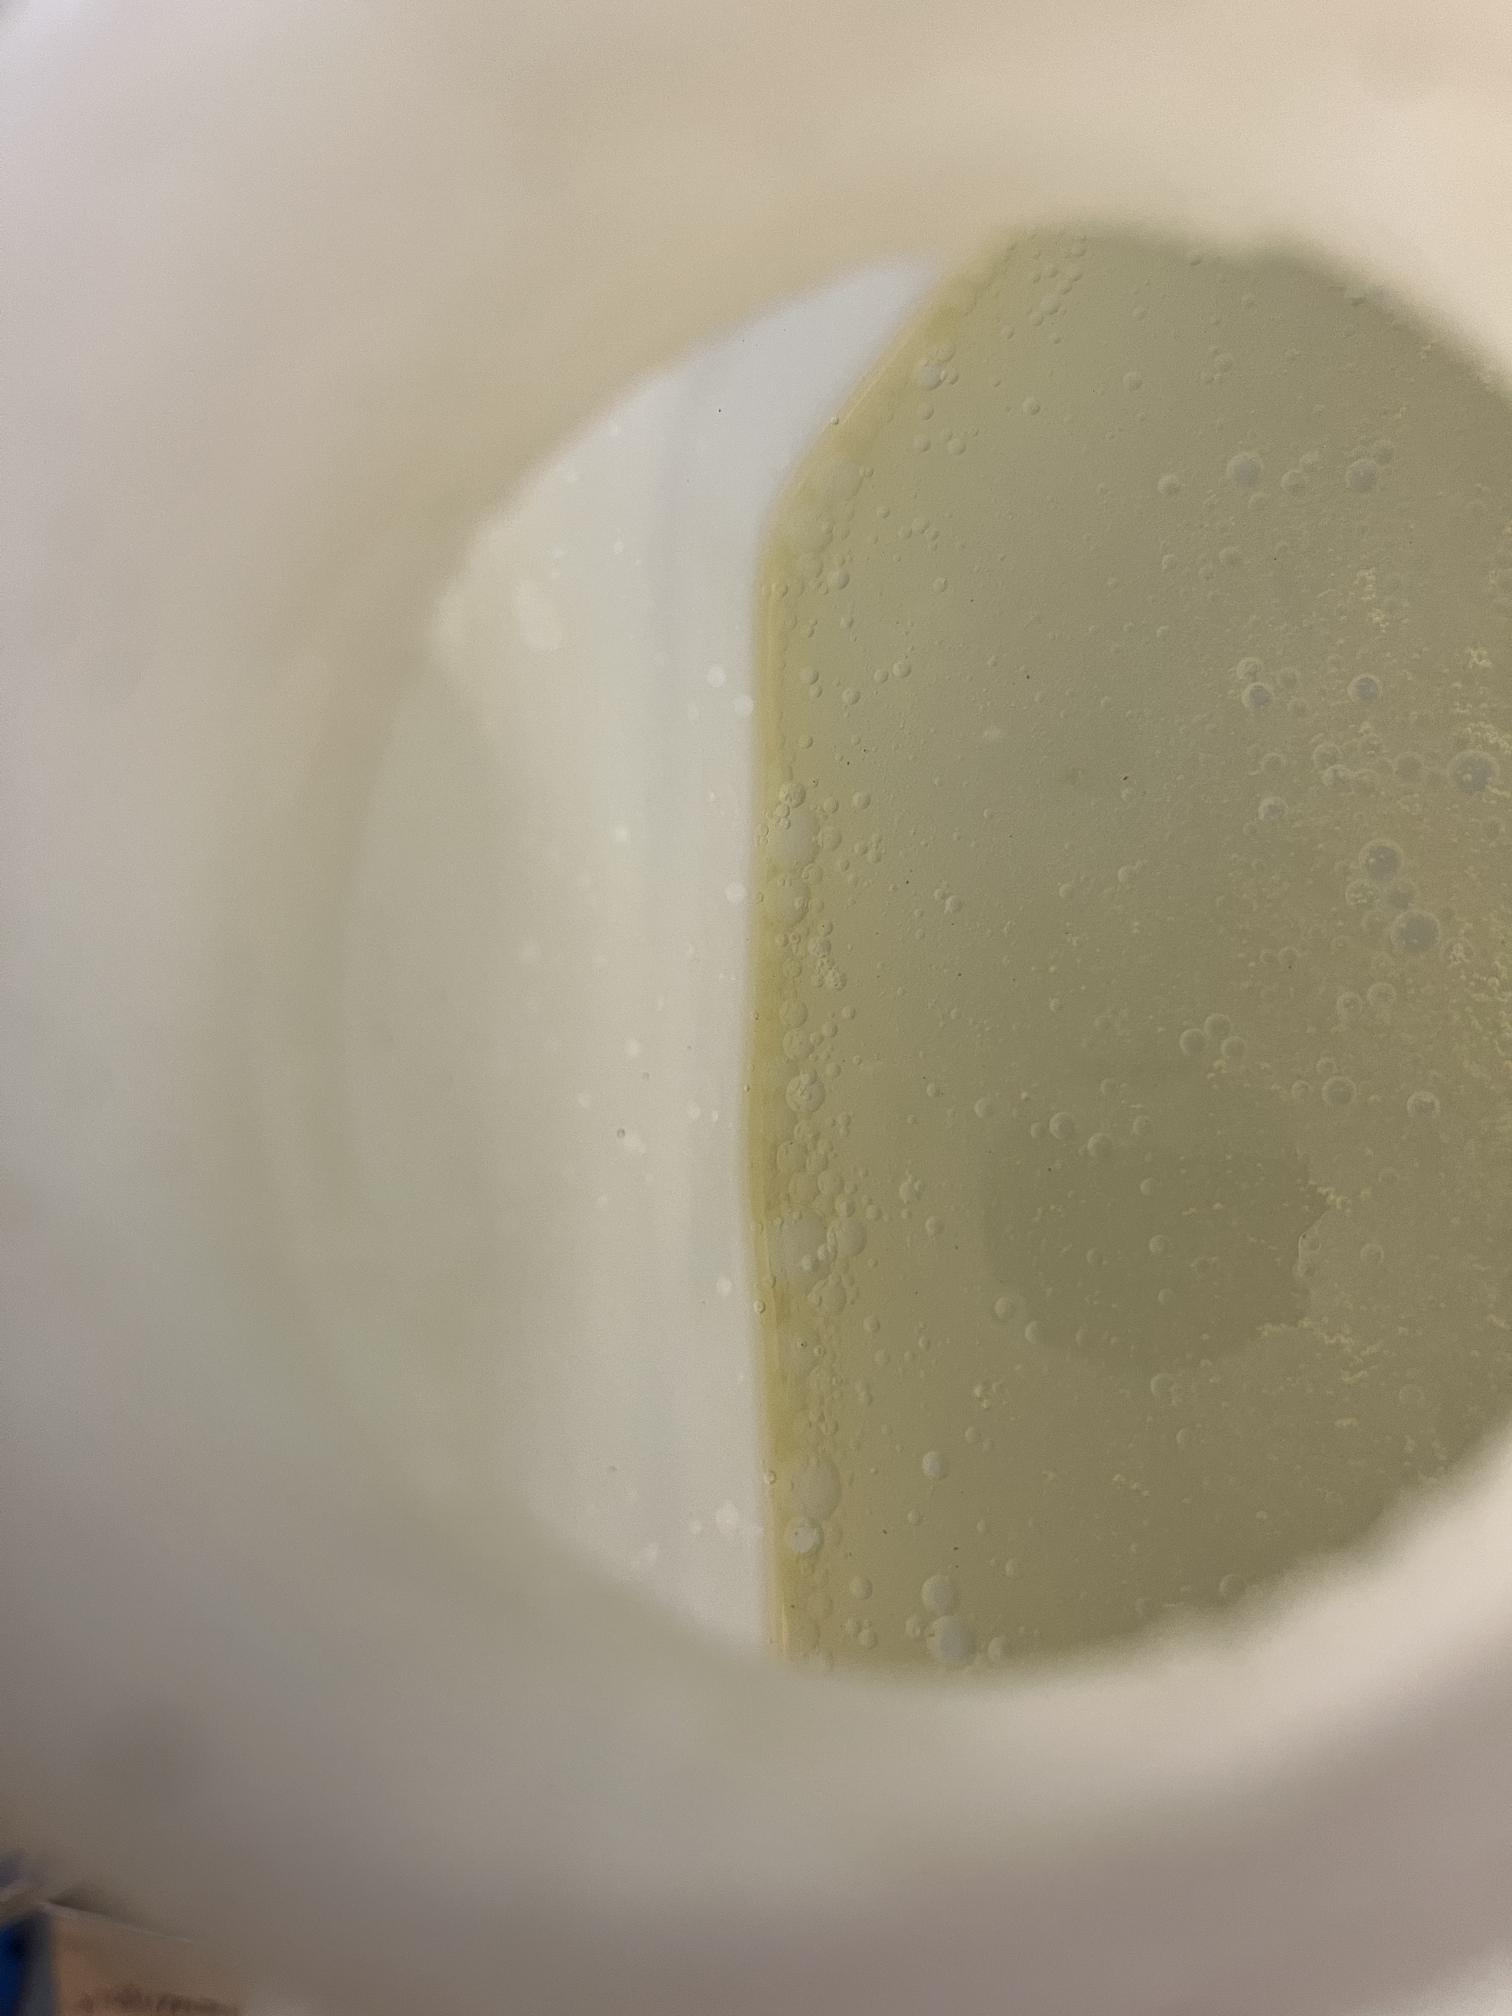Presenca de Oleo - - 200ml: (485, 90, 1440, 1810)
